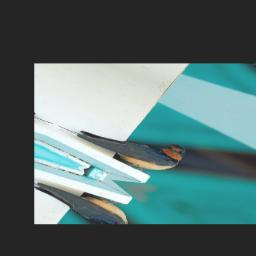Swallow: (49, 103, 195, 181)
